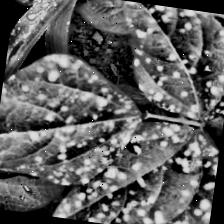Bean Rust: (35, 106, 222, 224), (0, 47, 146, 189), (95, 0, 224, 123)
